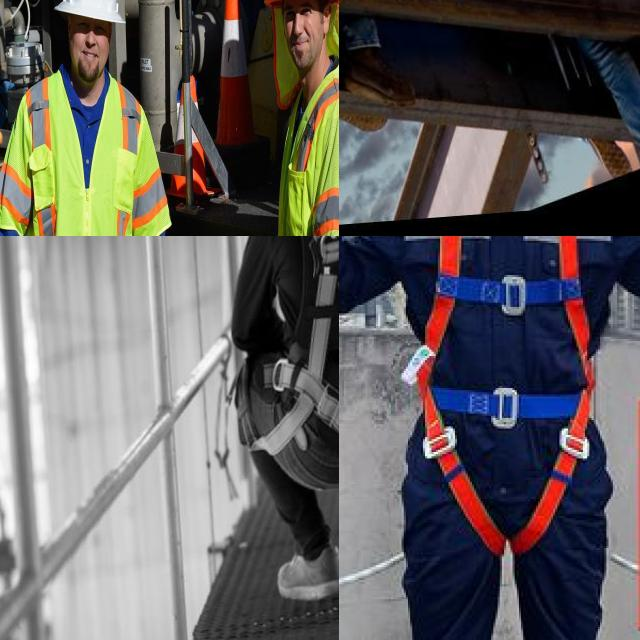Harness: (407, 236, 606, 556), (254, 236, 339, 455)
No_Ear-Protection: (321, 0, 333, 40)
No_Glasses: (279, 0, 317, 30)
face_nomask: (68, 18, 111, 87), (278, 0, 320, 68)
head_helmet: (56, 0, 131, 26)
person: (11, 0, 166, 236), (235, 0, 339, 236)
vest: (5, 72, 162, 236), (275, 72, 339, 236)
